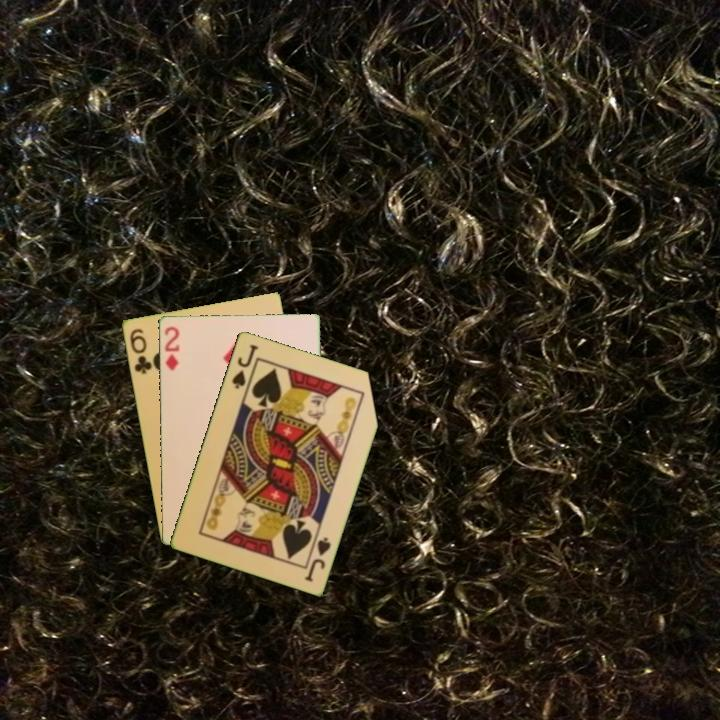2d: (161, 322, 182, 373)
6c: (126, 325, 154, 377)
Js: (228, 340, 261, 391), (301, 533, 334, 584)
